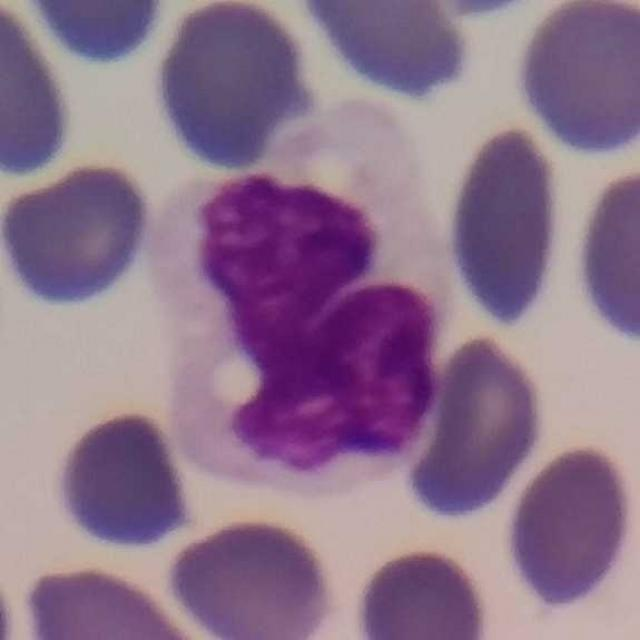Monocyte: (143, 93, 450, 487)
RBC: (145, 0, 329, 181), (146, 0, 330, 179), (394, 328, 552, 524), (437, 119, 571, 334), (0, 156, 158, 314), (500, 440, 639, 618), (46, 405, 200, 558), (162, 513, 342, 640), (287, 0, 488, 109), (507, 0, 640, 162), (309, 0, 472, 109), (18, 558, 216, 640), (566, 157, 640, 355), (0, 0, 80, 181), (348, 542, 494, 640), (37, 0, 163, 68)
